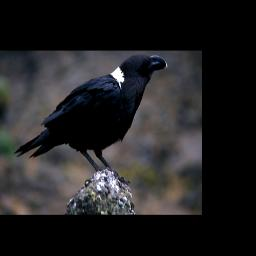Crow: (13, 54, 169, 187)
